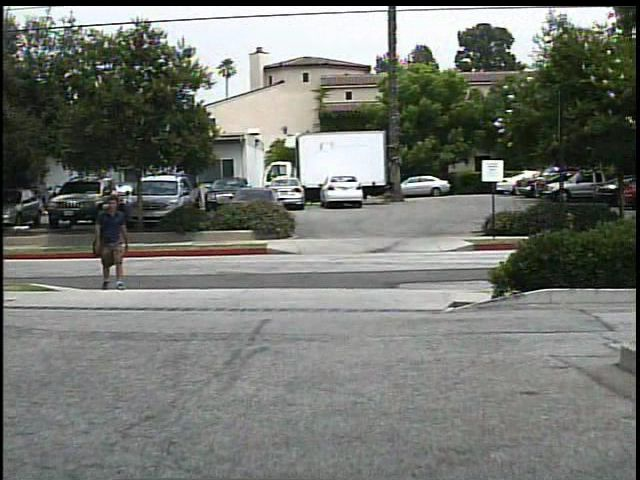person: (93, 193, 135, 291)
